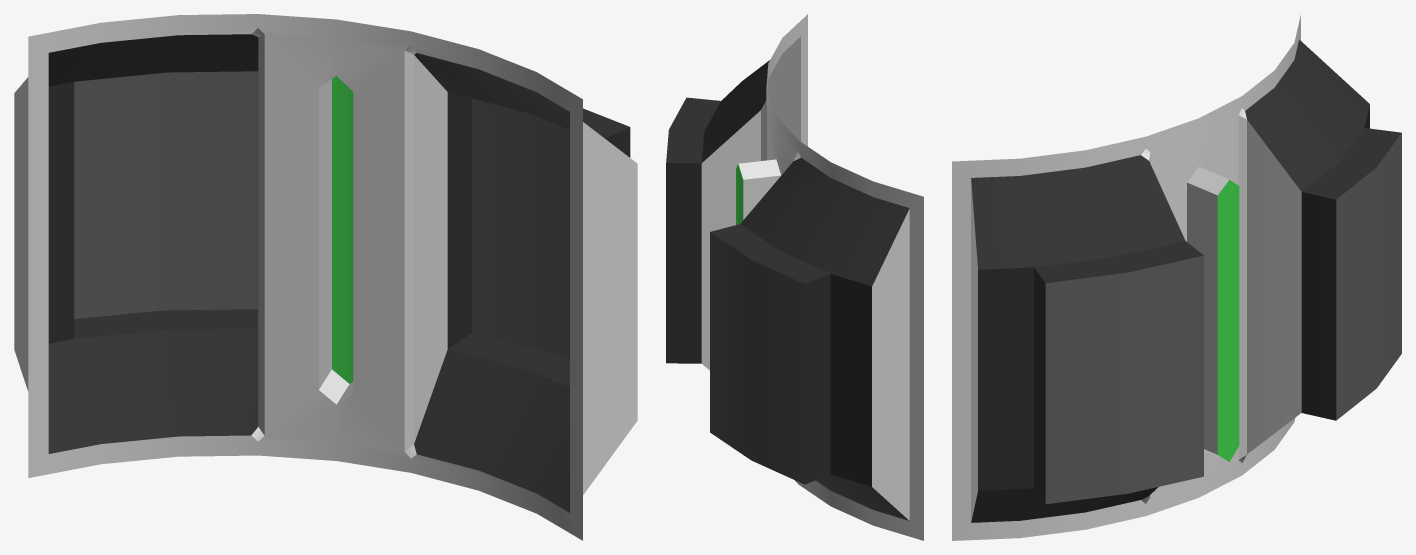
The model's file is WallRound_Fake_2.5x2.5_Invert.fbx.
3 views of the same model, side by side, from view 1: azimuth 30°, elevation 25°; view 2: azimuth 150°, elevation 25°; view 3: azimuth 270°, elevation 25° (orthographic). The views are drawn at different scales.
Visible parts, largest first — view 1: WallRound_Fake_2.5x2.5_Invert; view 2: WallRound_Fake_2.5x2.5_Invert; view 3: WallRound_Fake_2.5x2.5_Invert.
Part boxes in pixels (<box>): WallRound_Fake_2.5x2.5_Invert: <box>14,14,637,540</box>; WallRound_Fake_2.5x2.5_Invert: <box>666,14,923,540</box>; WallRound_Fake_2.5x2.5_Invert: <box>952,15,1401,540</box>.
Size of the model in its own units: 322 by 300 by 322.
